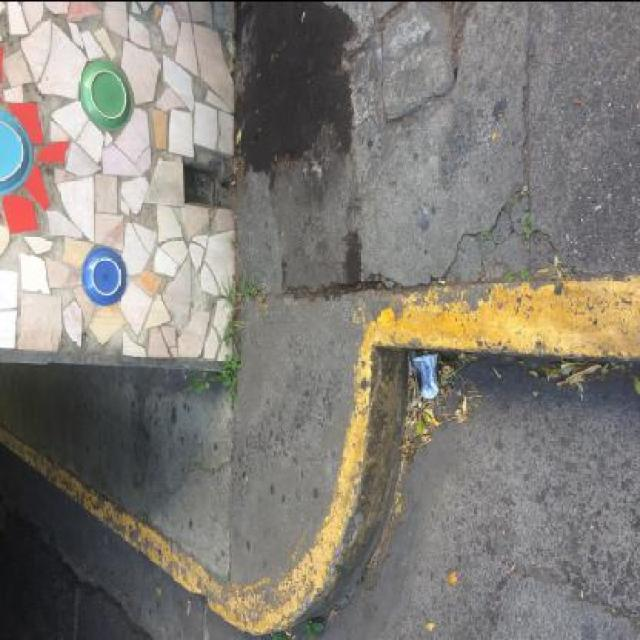cardboard: (412, 352, 439, 398)
